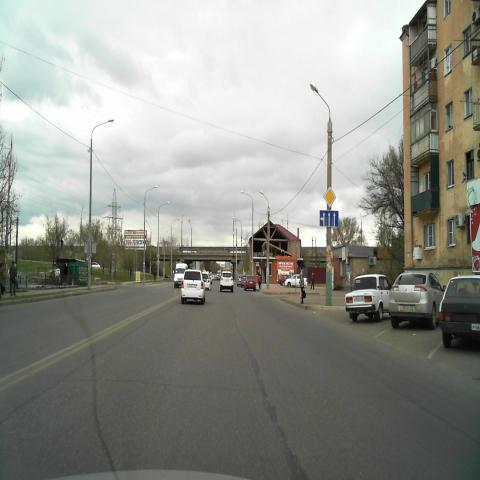2_1: (323, 185, 336, 208)
5_15_1: (320, 210, 338, 228)
